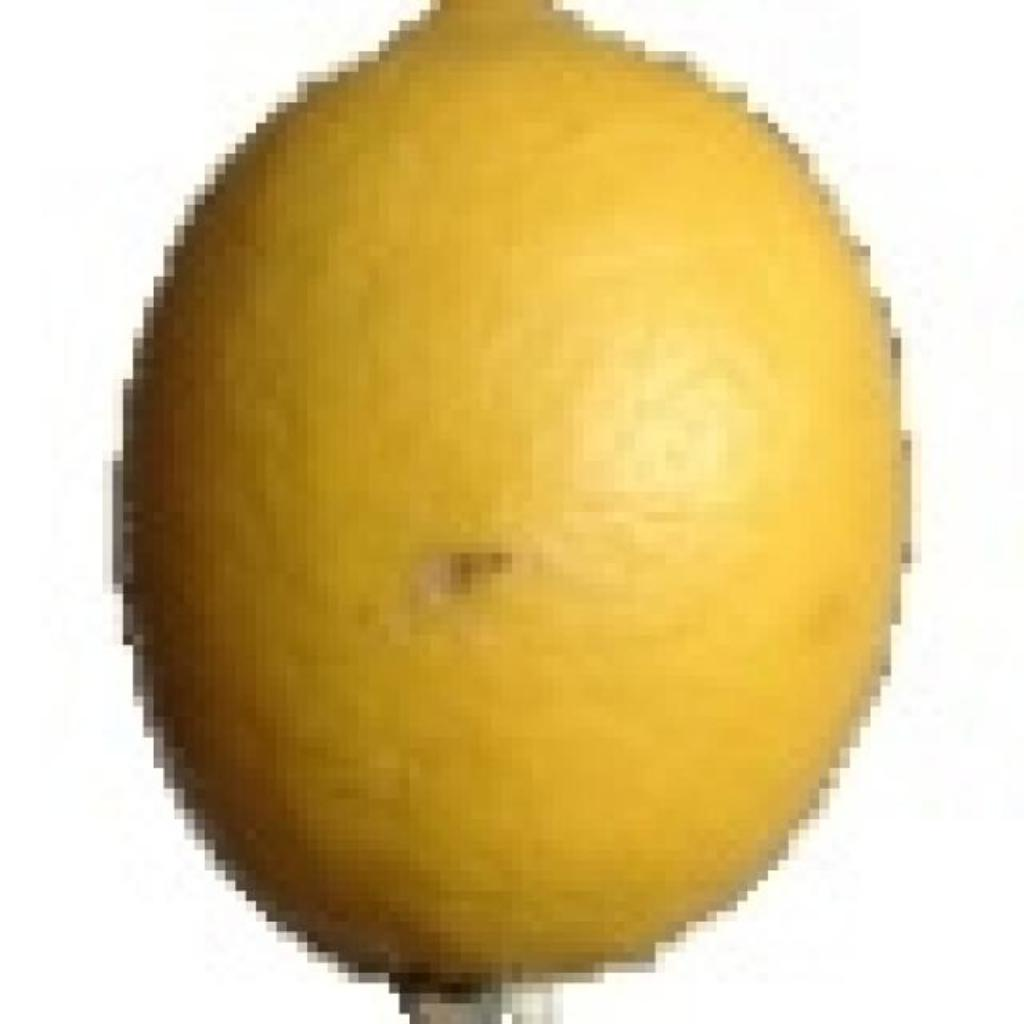lemon: (124, 0, 900, 999)
